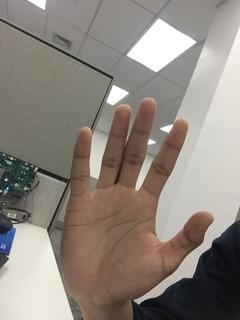hand: (57, 96, 214, 304)
